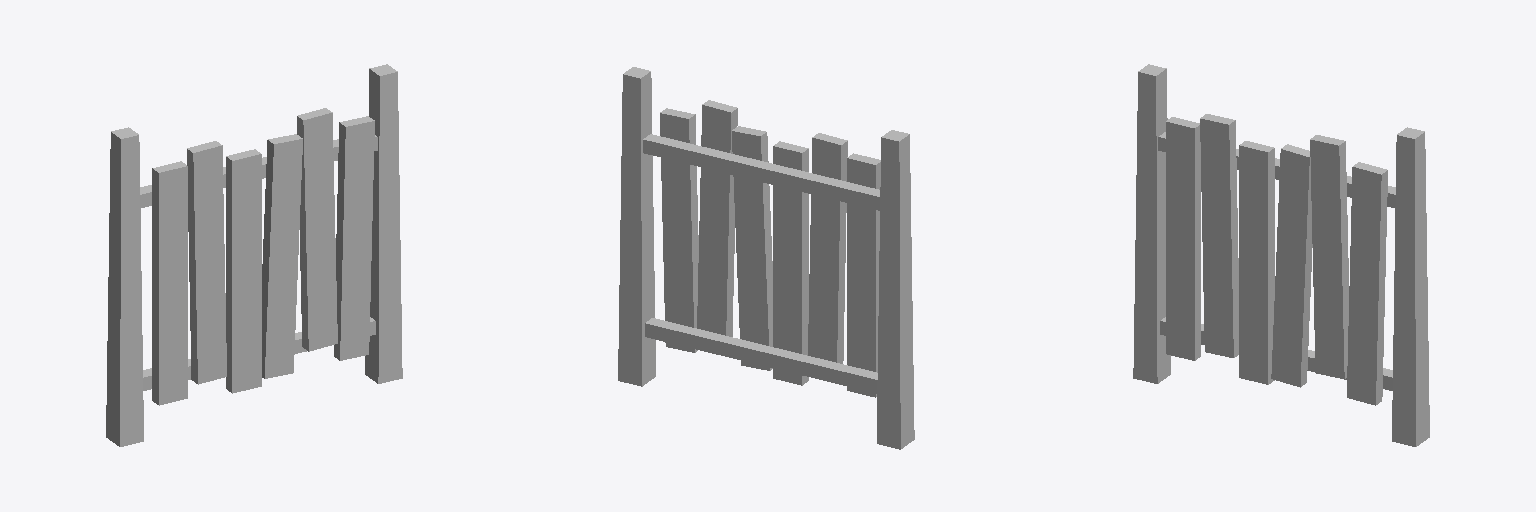
The model's file is fence.obj.
3 views of the same model, side by side, from view 1: azimuth 30°, elevation 25°; view 2: azimuth 150°, elevation 25°; view 3: azimuth 330°, elevation 25° (orthographic).
Visible parts, largest first — view 1: fenceFortified; view 2: fenceFortified; view 3: fenceFortified.
Part boxes in pixels (x1,y1,x2,y2): fenceFortified: (106,64,402,446); fenceFortified: (618,67,914,449); fenceFortified: (1133,64,1429,446).
Bounding box in the file's own units: 1.85 × 1.92 × 0.1963.